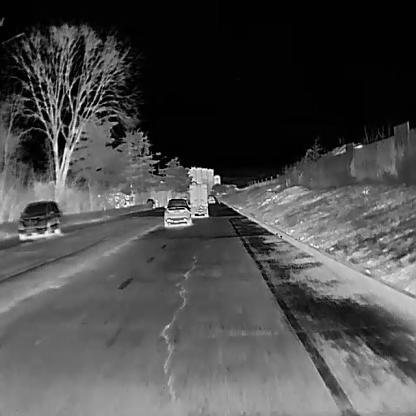car: (16, 199, 61, 237), (163, 197, 192, 226), (187, 181, 209, 217), (145, 196, 155, 209), (207, 195, 215, 203)
